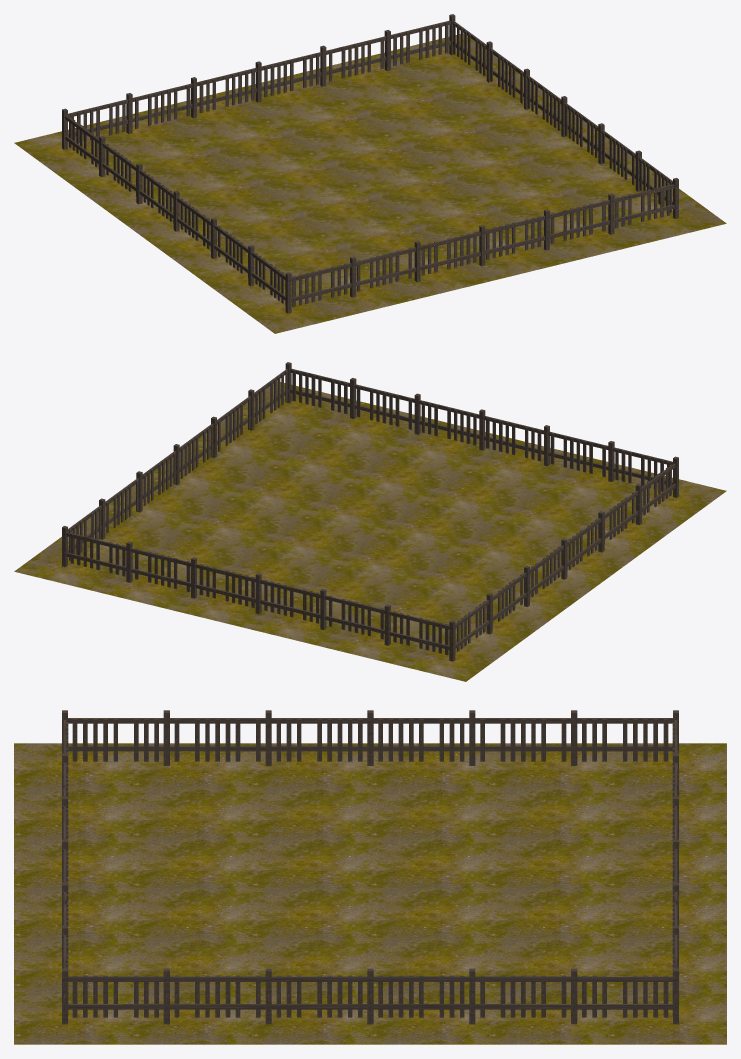
Rendered from backyard-set.glb.
The picture shows the model from 3 angles, top to bottom: view 1: azimuth 30°, elevation 25°; view 2: azimuth 150°, elevation 25°; view 3: azimuth 270°, elevation 25°; orthographic projection. The views are drawn at different scales.
Visible parts, largest first — view 1: Lawn, Fence; view 2: Lawn, Fence; view 3: Lawn, Fence.
Boxes of the visible parts, x1,y1,x2,y2 form: Lawn: (14, 33, 726, 333); Fence: (62, 14, 678, 313); Lawn: (14, 381, 726, 681); Fence: (62, 362, 678, 661); Lawn: (14, 743, 726, 1044); Fence: (62, 710, 678, 1024).
Bounding box in the file's own units: 14 × 1.15 × 14.
Materials: 2 (2 with a texture image).
